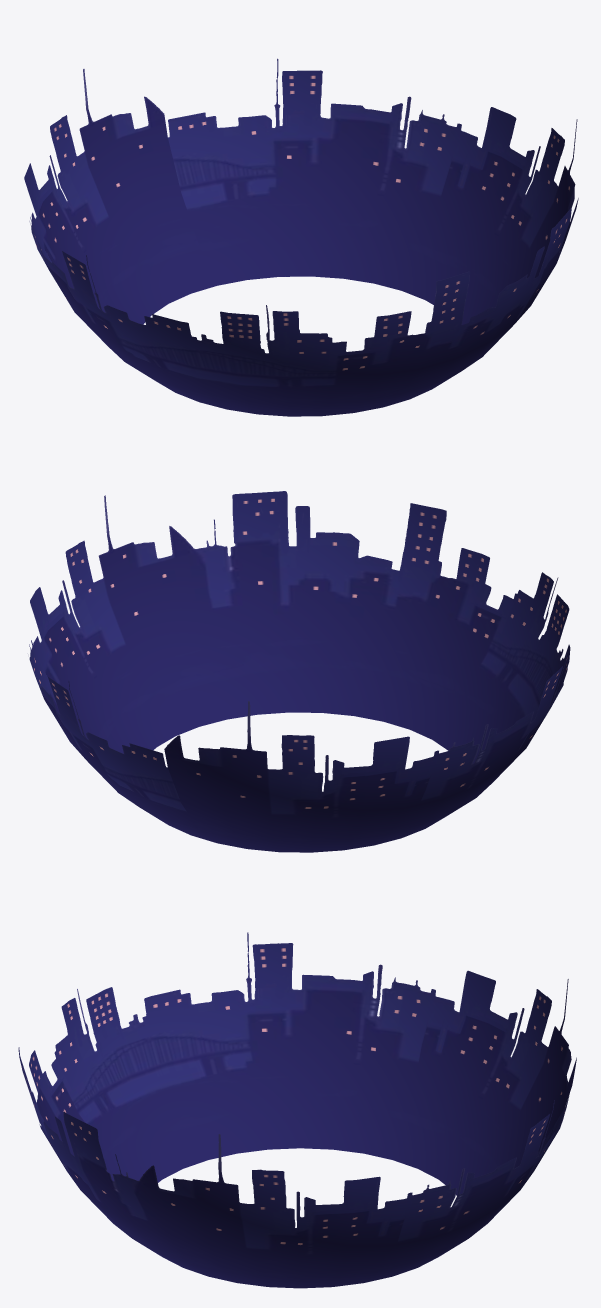
File: SM_Background.fbx
3 views of the same model, one above another, from view 1: azimuth 30°, elevation 25°; view 2: azimuth 150°, elevation 25°; view 3: azimuth 270°, elevation 25° (orthographic).
Parts seen in each view (by area): view 1: SM_Background; view 2: SM_Background; view 3: SM_Background.
Part boxes in pixels (bbox=[...]): SM_Background: bbox=[24, 58, 578, 416]; SM_Background: bbox=[29, 491, 570, 852]; SM_Background: bbox=[18, 932, 576, 1288].
Bounding box in the file's own units: 58725 × 58725 × 28798.
1 material, 1 textured.
